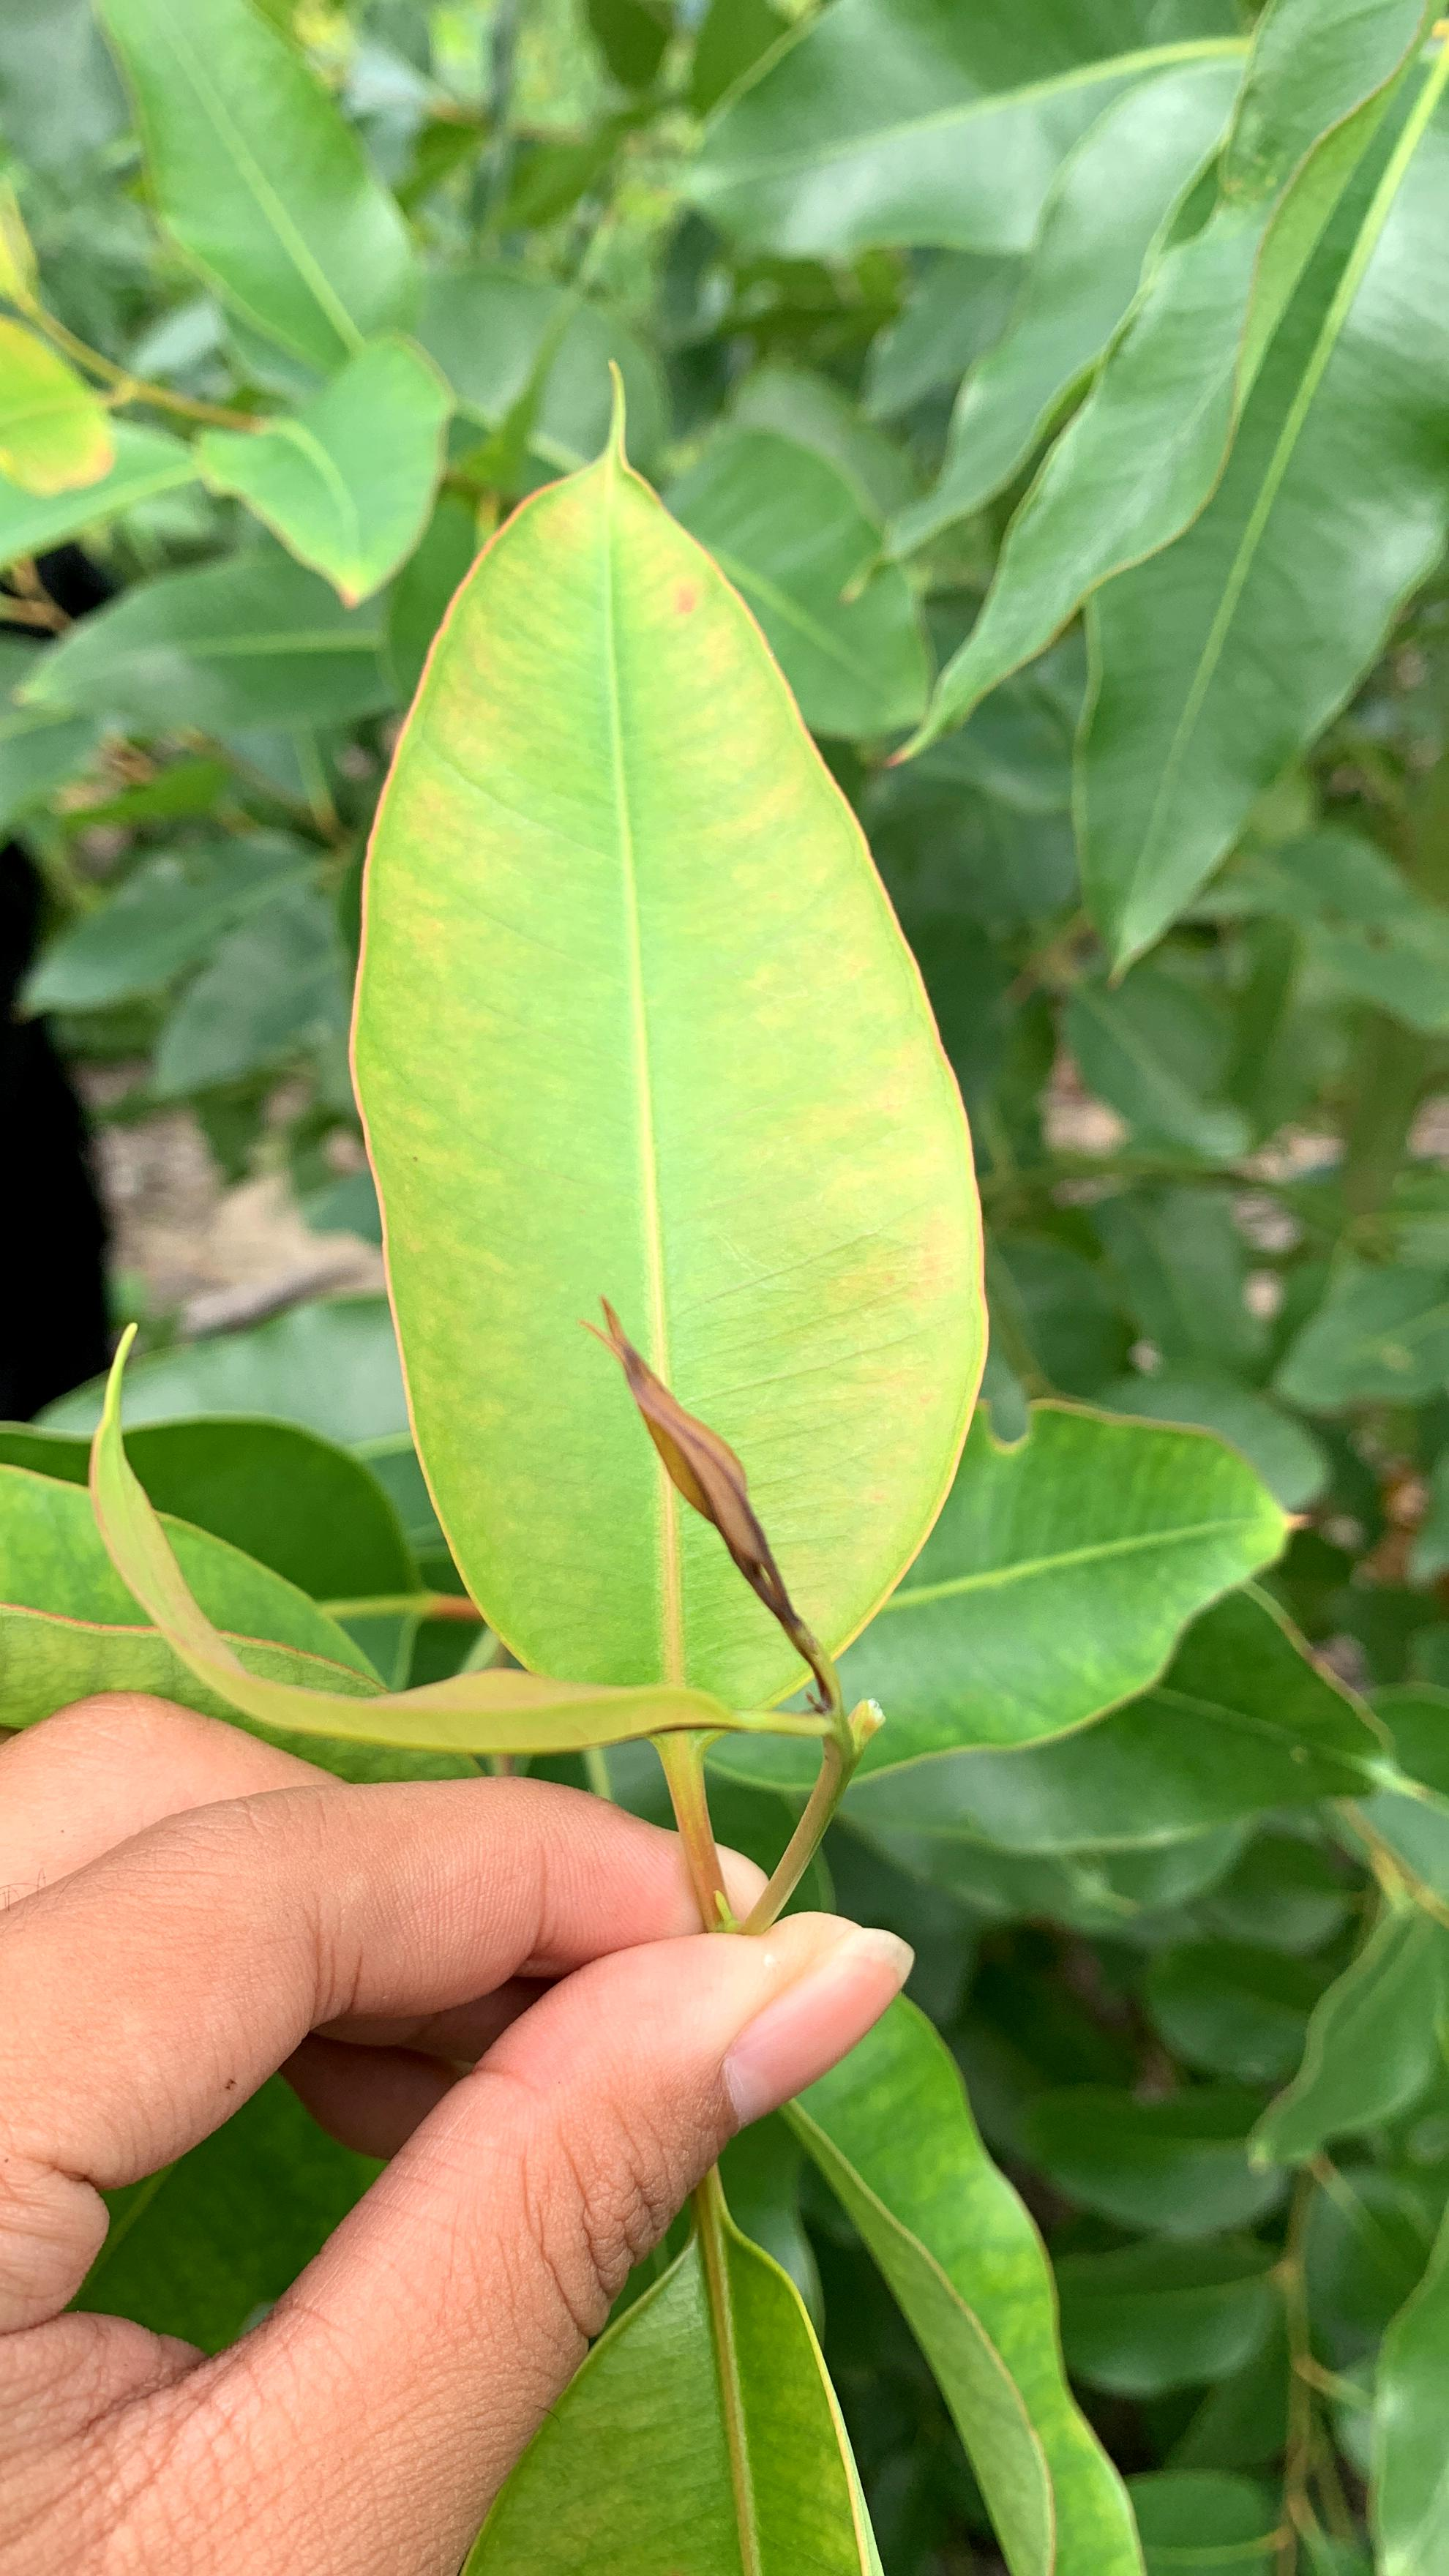Helopeltis-Withered Sprout: (565, 1238, 875, 1793)
